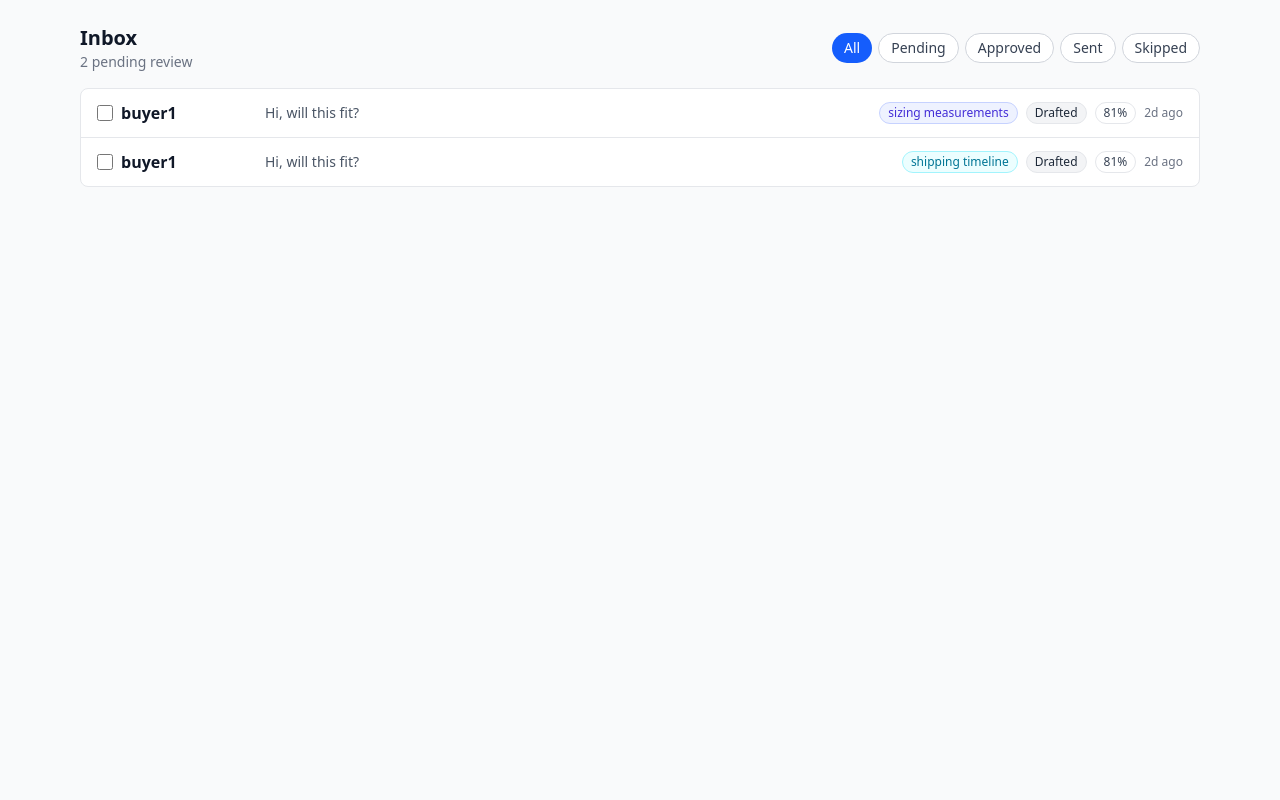
InboxPage › batch-approve-by-category › disables Approve and shows warning when categories are mixed
Click the checkbox with test id "select-m1" at (105, 113), box left=97, top=105, right=113, bottom=121
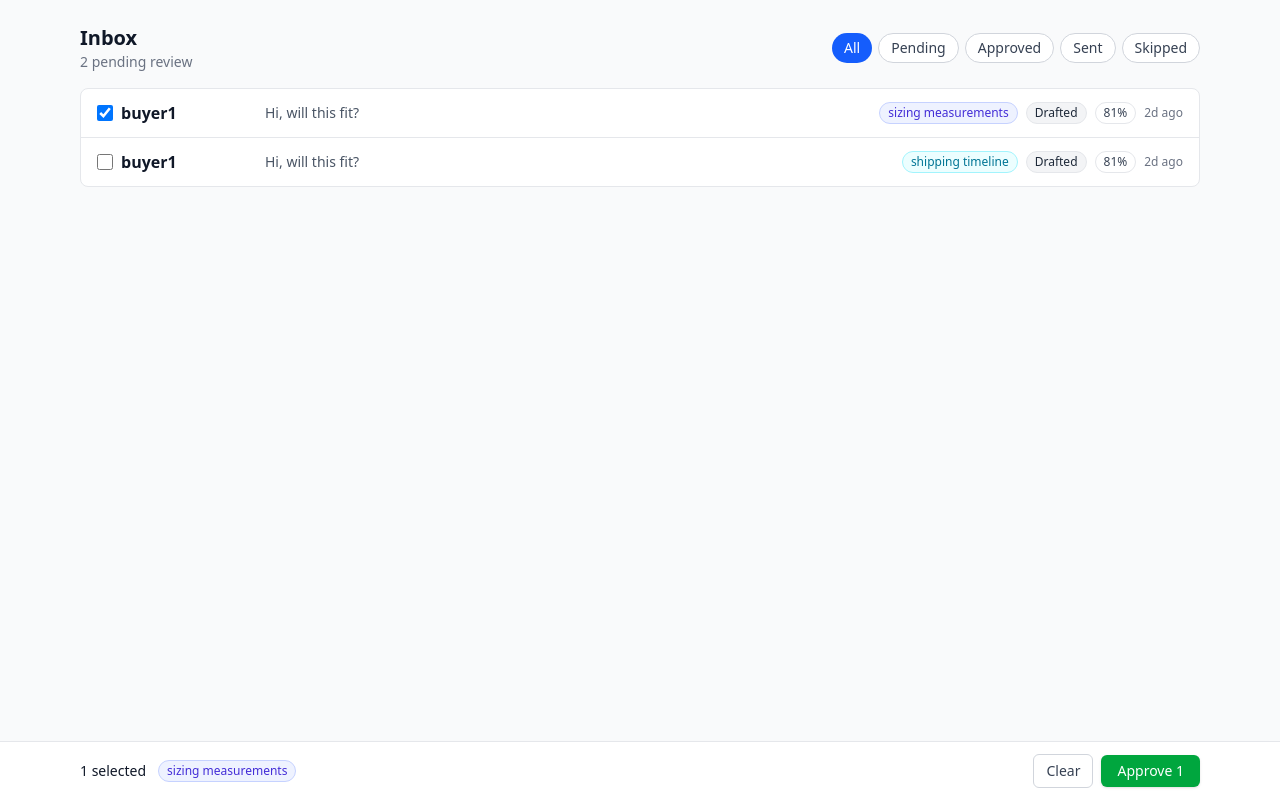
Click the checkbox with test id "select-m2" at (105, 162), box left=97, top=154, right=113, bottom=170
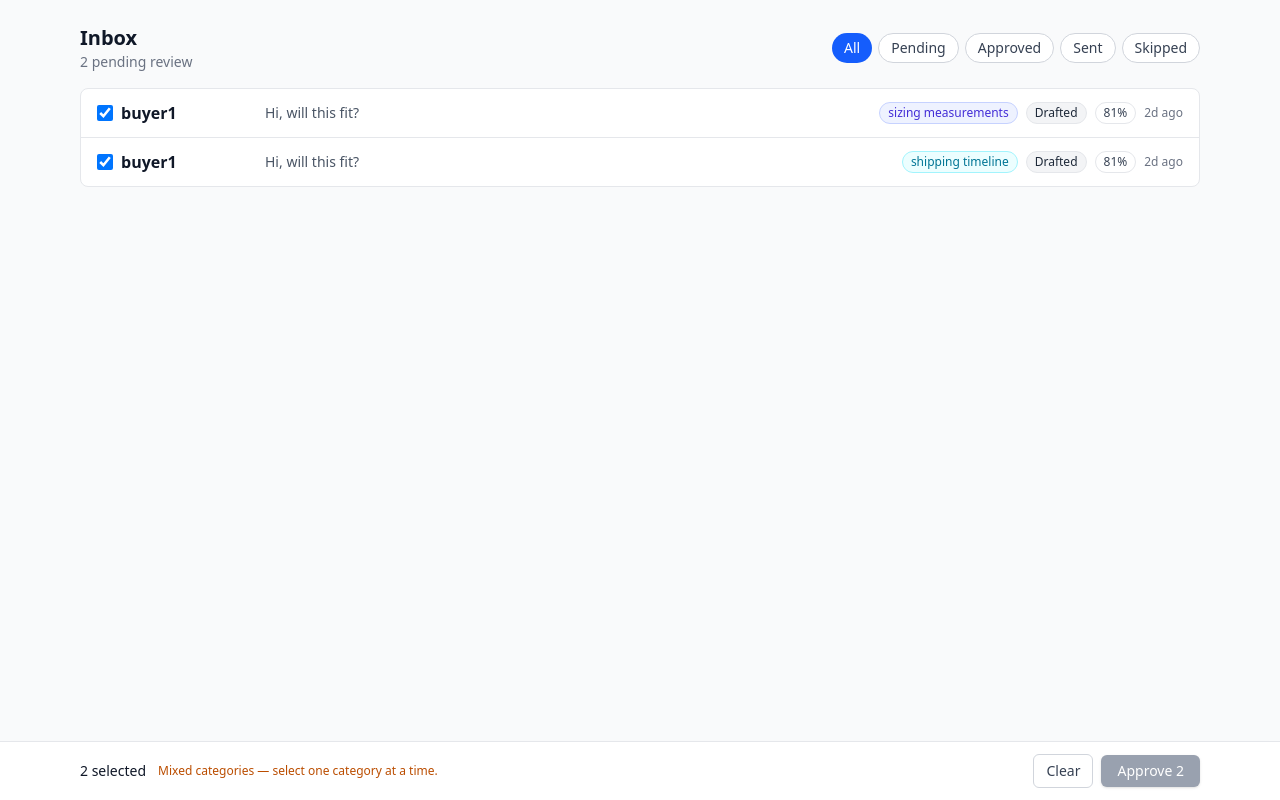
Check: the text "Mixed categories — select one category at a time." is shown, box left=158, top=763, right=438, bottom=779
Check: the button with test id "batch-approve" is disabled, box left=1102, top=755, right=1200, bottom=787
